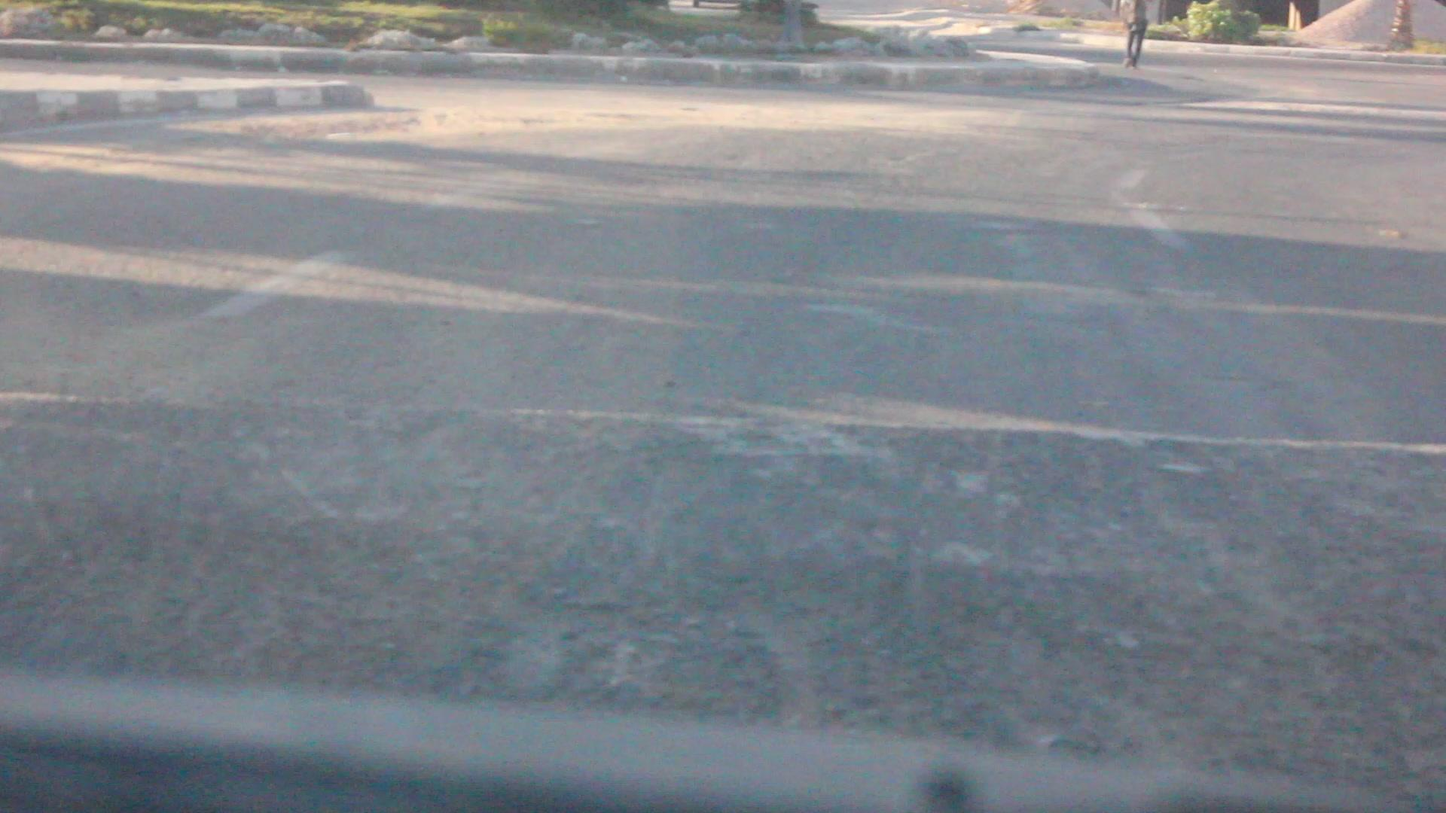Bump: (0, 376, 1446, 813)
